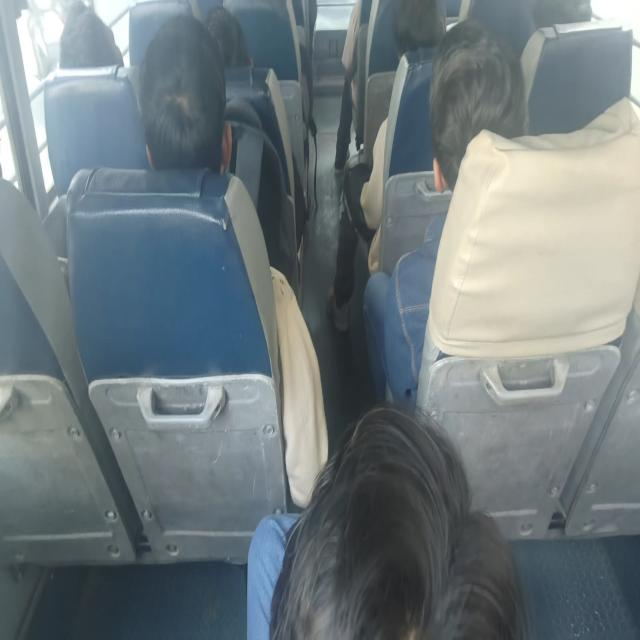person: (281, 406, 531, 640), (428, 39, 524, 199), (142, 33, 223, 183), (56, 0, 123, 77), (192, 5, 260, 77), (402, 0, 442, 68), (528, 0, 613, 30)
